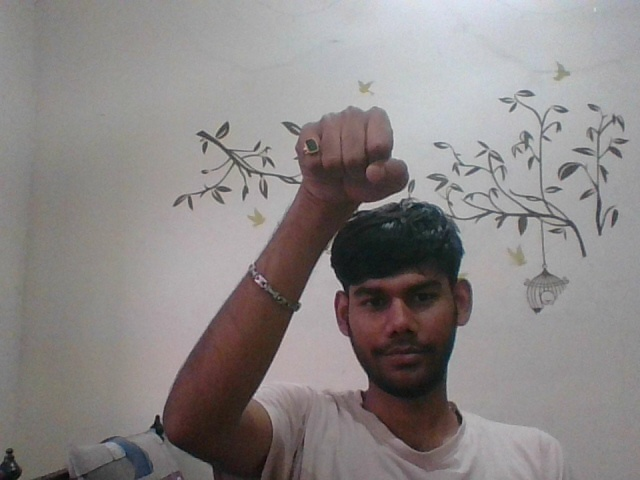Thank You: (284, 102, 412, 205)
